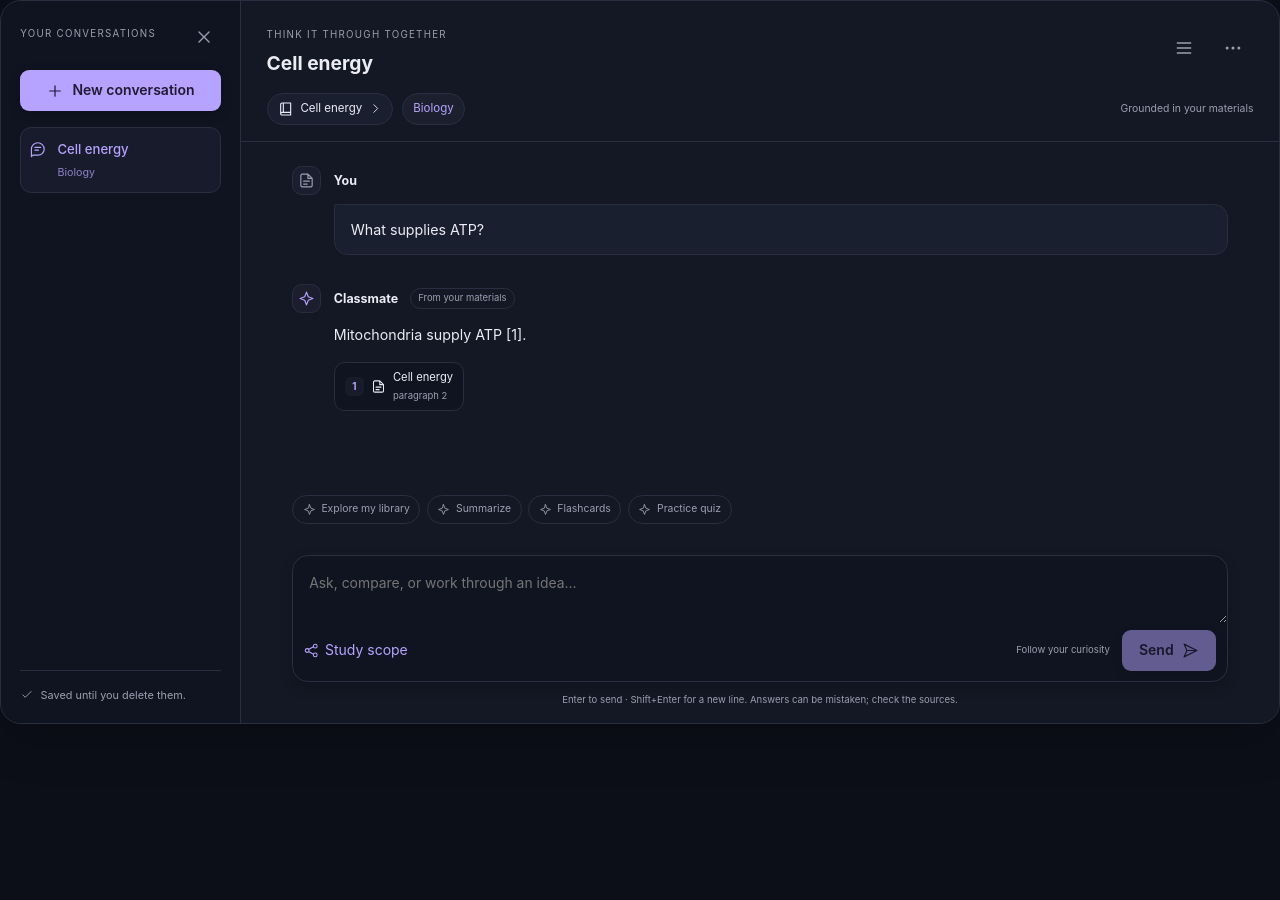
Test: Complete study-chat interface › requires confirmation before removing a saved conversation
Expected: the text "Mitochondria supply ATP [1]." is shown, [334,326,526,343]
Click the button named "Conversation actions" at point(1233, 48), box [1213,28,1253,68]
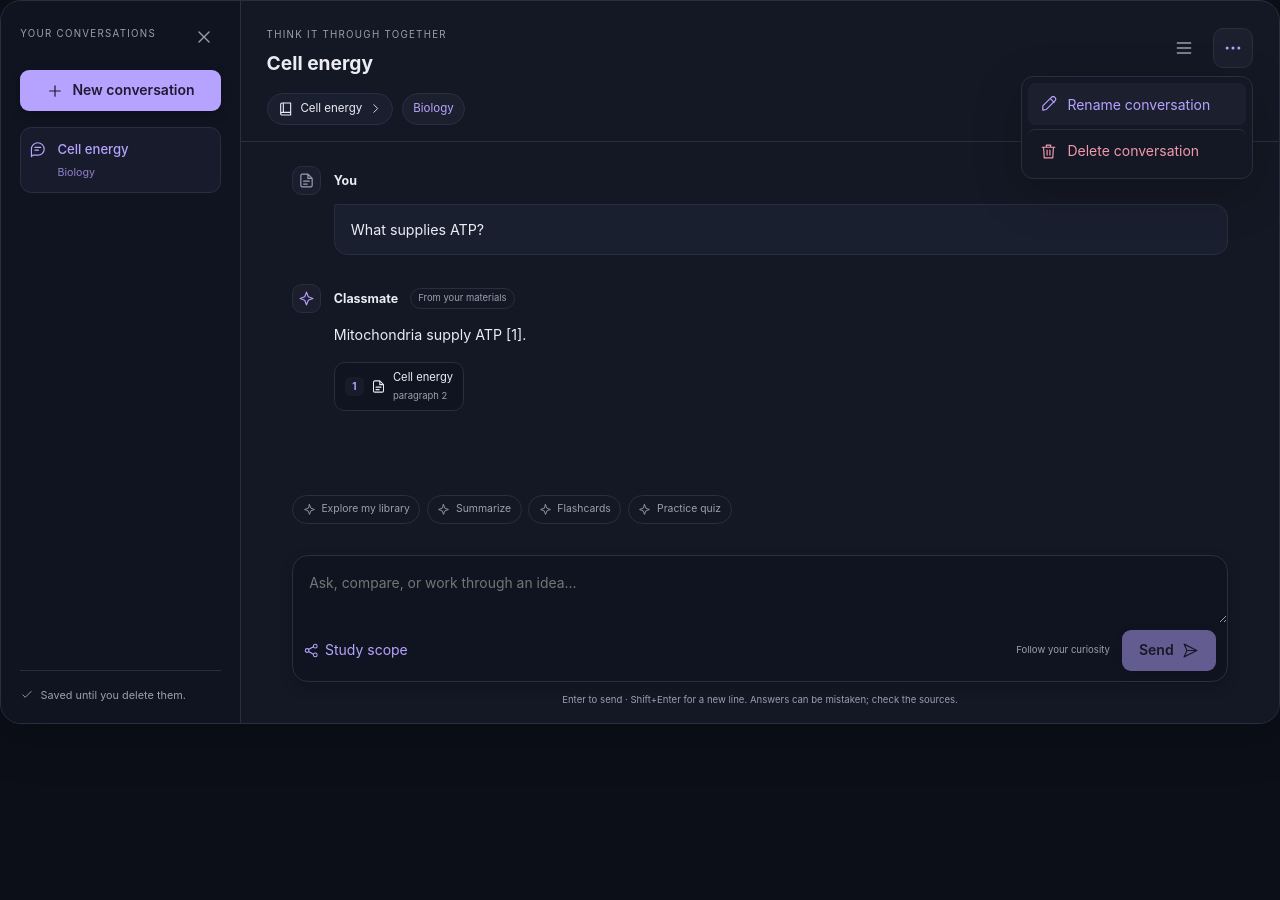
Click the menu item "Delete conversation" at point(1137, 151), box [1028,129,1246,172]
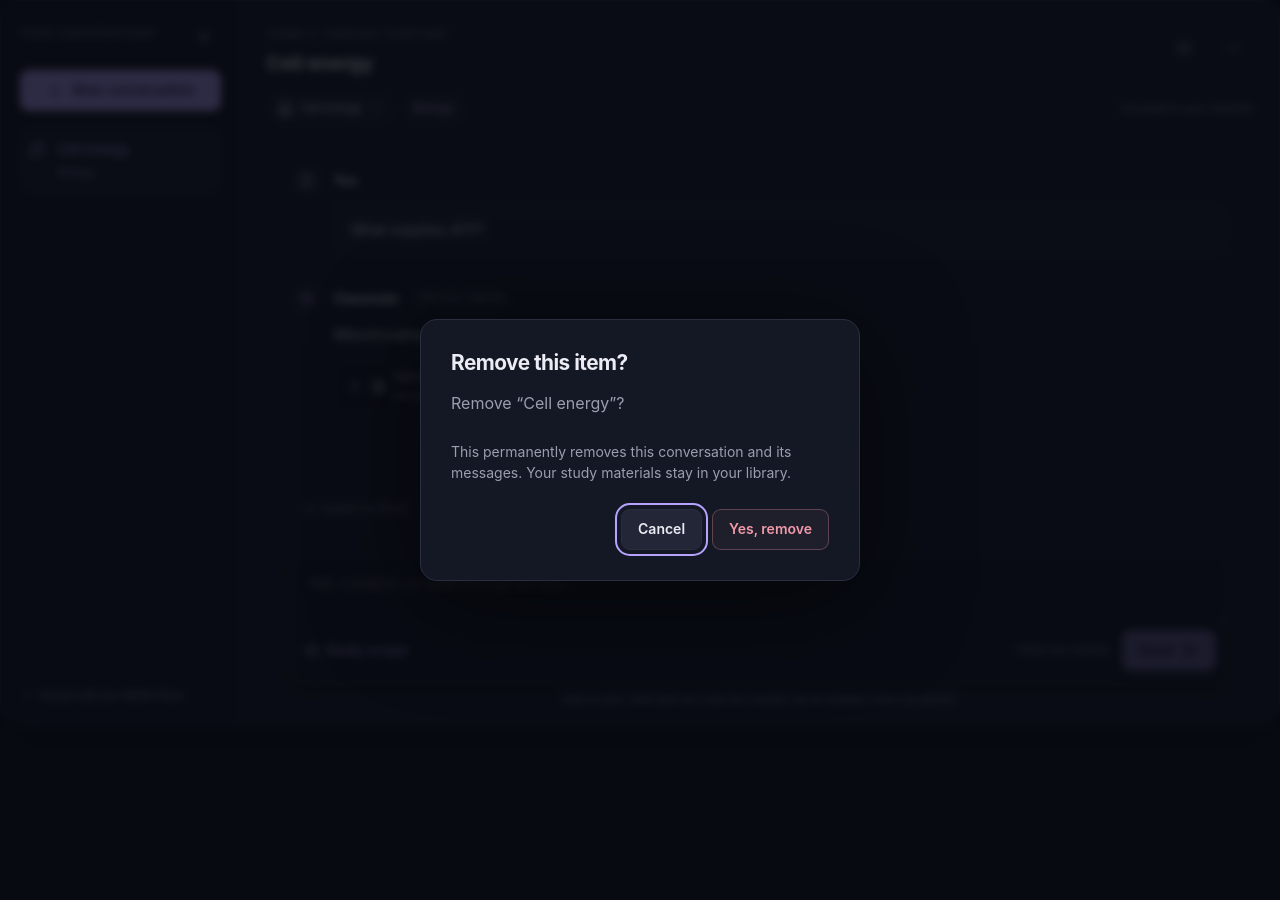
Now the button "Yes, remove" is shown, box [712,509,829,550]
